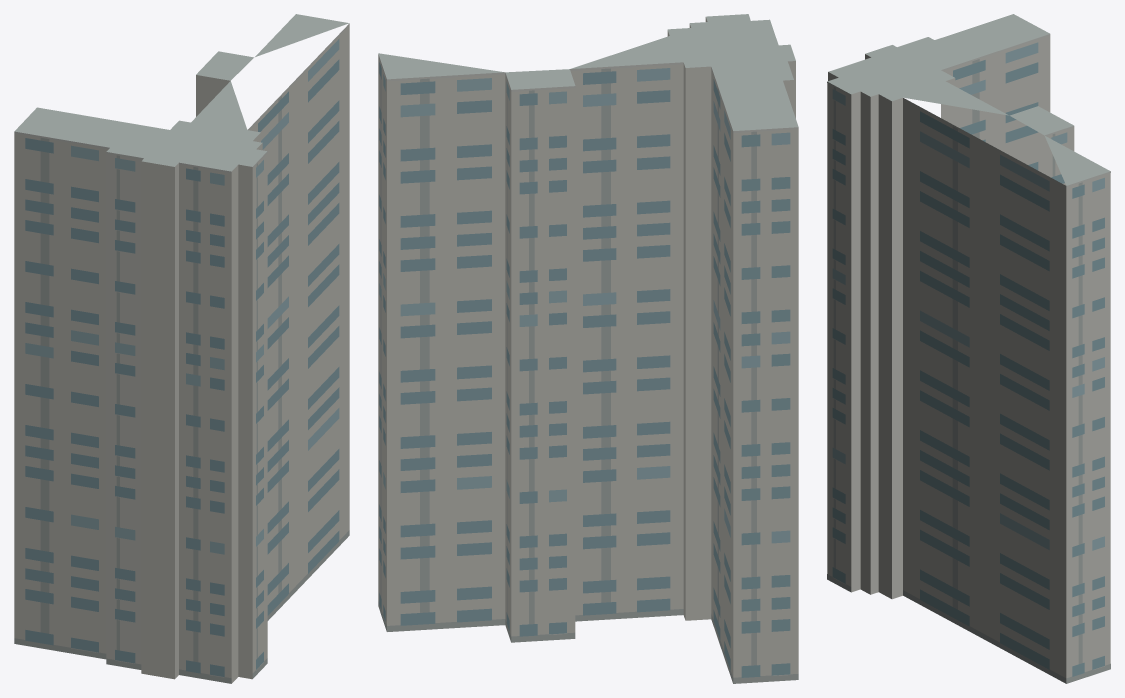
File: residential-80f8eda5-a753-4050-945f-3cfb5537073a.glb
3 renders of one model, left to right at view 1: azimuth 30°, elevation 25°; view 2: azimuth 150°, elevation 25°; view 3: azimuth 270°, elevation 25°, orthographic. The views are drawn at different scales.
Parts seen in each view (by area): view 1: residential-80f8eda5-a753-4050-945f-3cfb5537073a.tmp; view 2: residential-80f8eda5-a753-4050-945f-3cfb5537073a.tmp; view 3: residential-80f8eda5-a753-4050-945f-3cfb5537073a.tmp.
Part boxes in pixels (<box>): residential-80f8eda5-a753-4050-945f-3cfb5537073a.tmp: <box>14,14,349,683</box>; residential-80f8eda5-a753-4050-945f-3cfb5537073a.tmp: <box>378,14,798,683</box>; residential-80f8eda5-a753-4050-945f-3cfb5537073a.tmp: <box>827,14,1110,683</box>.
Bounding box in the file's own units: 54.8 × 74 × 38.2.
